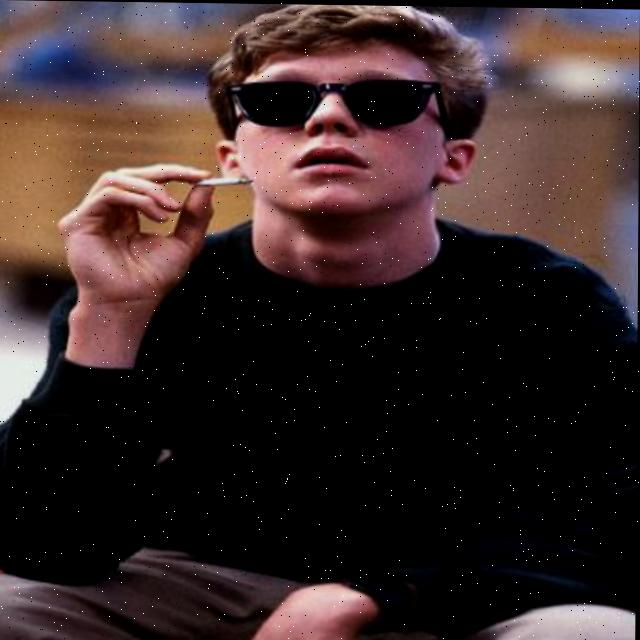cigarette: (190, 174, 254, 189)
